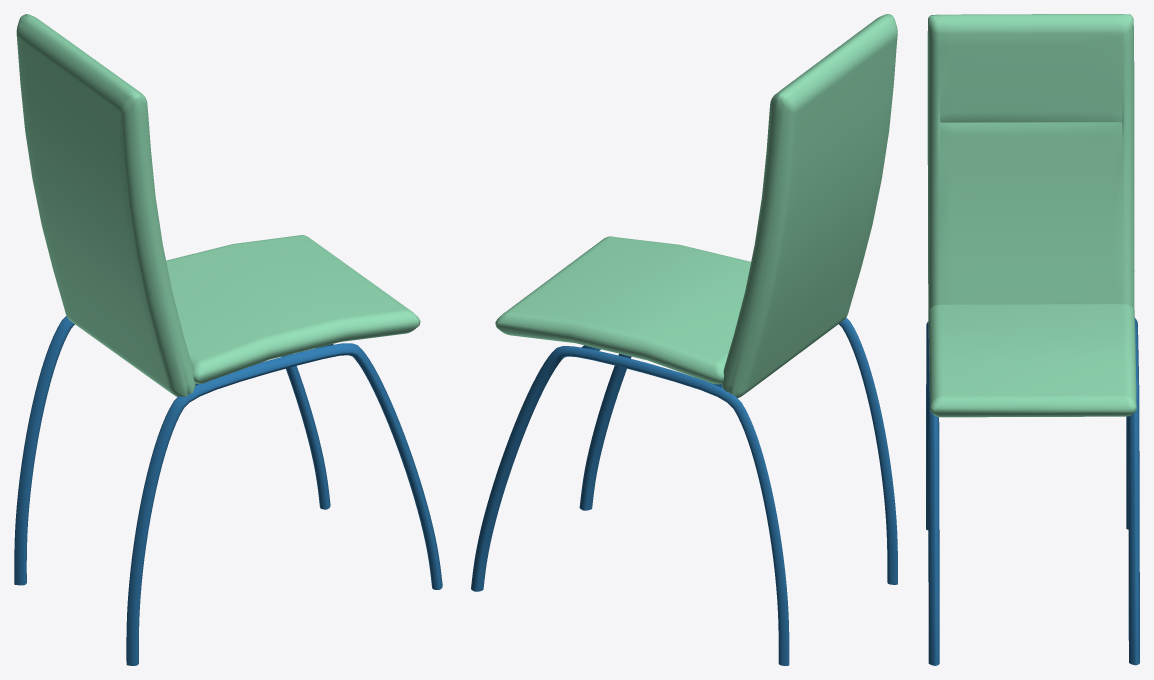
The model's file is UDTarget2.fbx.
The picture shows the model from 3 angles, left to right: view 1: azimuth 30°, elevation 25°; view 2: azimuth 150°, elevation 25°; view 3: azimuth 270°, elevation 25°; orthographic projection. The views are drawn at different scales.
Visible parts, largest first — view 1: Box002, Box001, Line001; view 2: Box002, Box001, Line001; view 3: Box002, Box001, Line001.
Part boxes in pixels (x1,y1,x2,y2): Box002: (16,14,195,397); Box001: (166,235,420,383); Line001: (14,316,442,665); Box002: (721,14,897,398); Box001: (495,236,750,384); Line001: (471,317,897,665); Box002: (927,14,1134,310); Box001: (928,303,1136,417); Line001: (926,318,1139,665).
Bounding box in the file's own units: 2.73 × 4.62 × 1.74.
